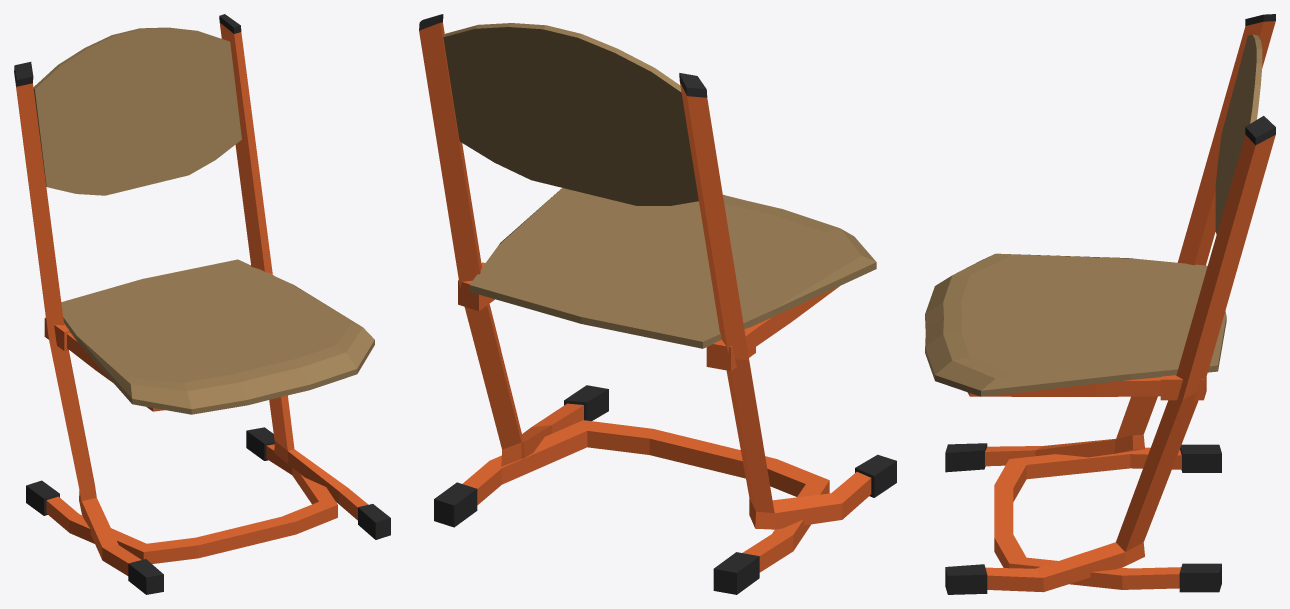
File: stolicka_2.fbx
The picture shows the model from 3 angles, left to right: view 1: azimuth 30°, elevation 25°; view 2: azimuth 150°, elevation 25°; view 3: azimuth 270°, elevation 25°; orthographic projection. The views are drawn at different scales.
Parts seen in each view (by area): view 1: stolicka_2; view 2: stolicka_2; view 3: stolicka_2.
Part boxes in pixels (<box>): stolicka_2: <box>14,14,390,594</box>; stolicka_2: <box>419,14,896,594</box>; stolicka_2: <box>925,14,1275,594</box>.
Size of the model in its own units: 82.28 by 138 by 92.44.
